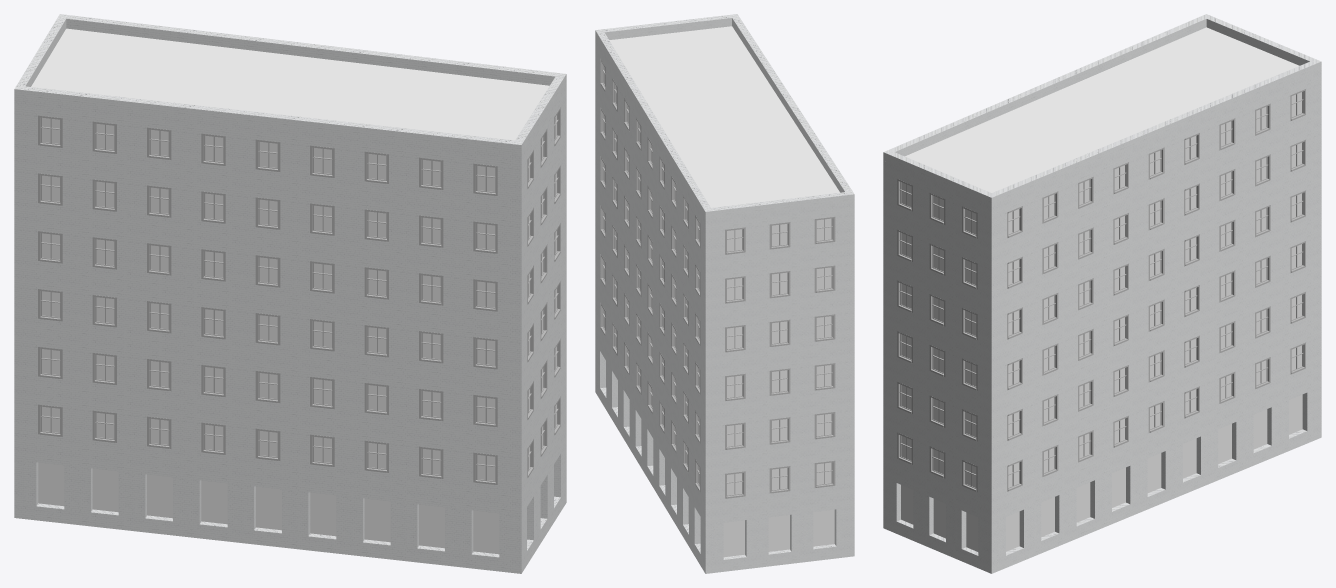
Rendered from clohbnpok02t54p02osag8qlj_0.glb.
The picture shows the model from 3 angles, left to right: view 1: azimuth 30°, elevation 25°; view 2: azimuth 150°, elevation 25°; view 3: azimuth 270°, elevation 25°; orthographic projection. The views are drawn at different scales.
Parts seen in each view (by area): view 1: mesh_Brick, mesh_Glass, mesh_CityEnginePBRShader, mesh_Rim, mesh_Brick_1; view 2: mesh_Brick, mesh_CityEnginePBRShader, mesh_Rim, mesh_Glass, mesh_Brick_1; view 3: mesh_Brick, mesh_CityEnginePBRShader, mesh_Glass, mesh_Rim, mesh_Brick_1.
Boxes of the visible parts, left/top/right/bottom form: mesh_Brick: left=14, top=14, right=566, bottom=573; mesh_Glass: left=38, top=115, right=556, bottom=554; mesh_CityEnginePBRShader: left=31, top=28, right=549, bottom=140; mesh_Rim: left=38, top=107, right=560, bottom=484; mesh_Brick_1: left=23, top=448, right=564, bottom=558; mesh_Brick: left=595, top=14, right=854, bottom=573; mesh_CityEnginePBRShader: left=609, top=26, right=839, bottom=207; mesh_Rim: left=600, top=59, right=835, bottom=498; mesh_Glass: left=603, top=66, right=834, bottom=557; mesh_Brick_1: left=597, top=347, right=847, bottom=561; mesh_Brick: left=883, top=14, right=1321, bottom=573; mesh_CityEnginePBRShader: left=905, top=27, right=1299, bottom=192; mesh_Glass: left=901, top=92, right=1302, bottom=551; mesh_Rim: left=897, top=89, right=1305, bottom=492; mesh_Brick_1: left=888, top=389, right=1315, bottom=558.
Bounding box in the file's own units: 27.47 × 26.2 × 27.66.
Materials: 5 (2 with a texture image).
